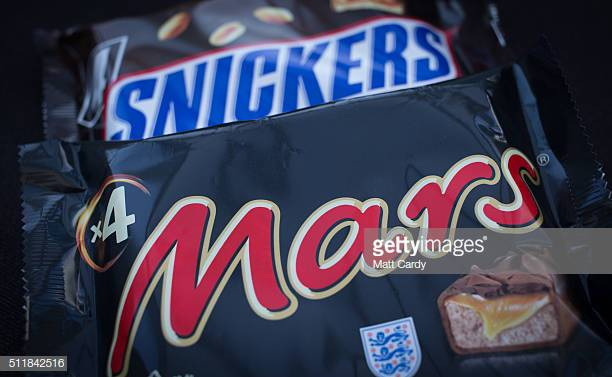snickers: (108, 22, 449, 143), (108, 27, 444, 143)
